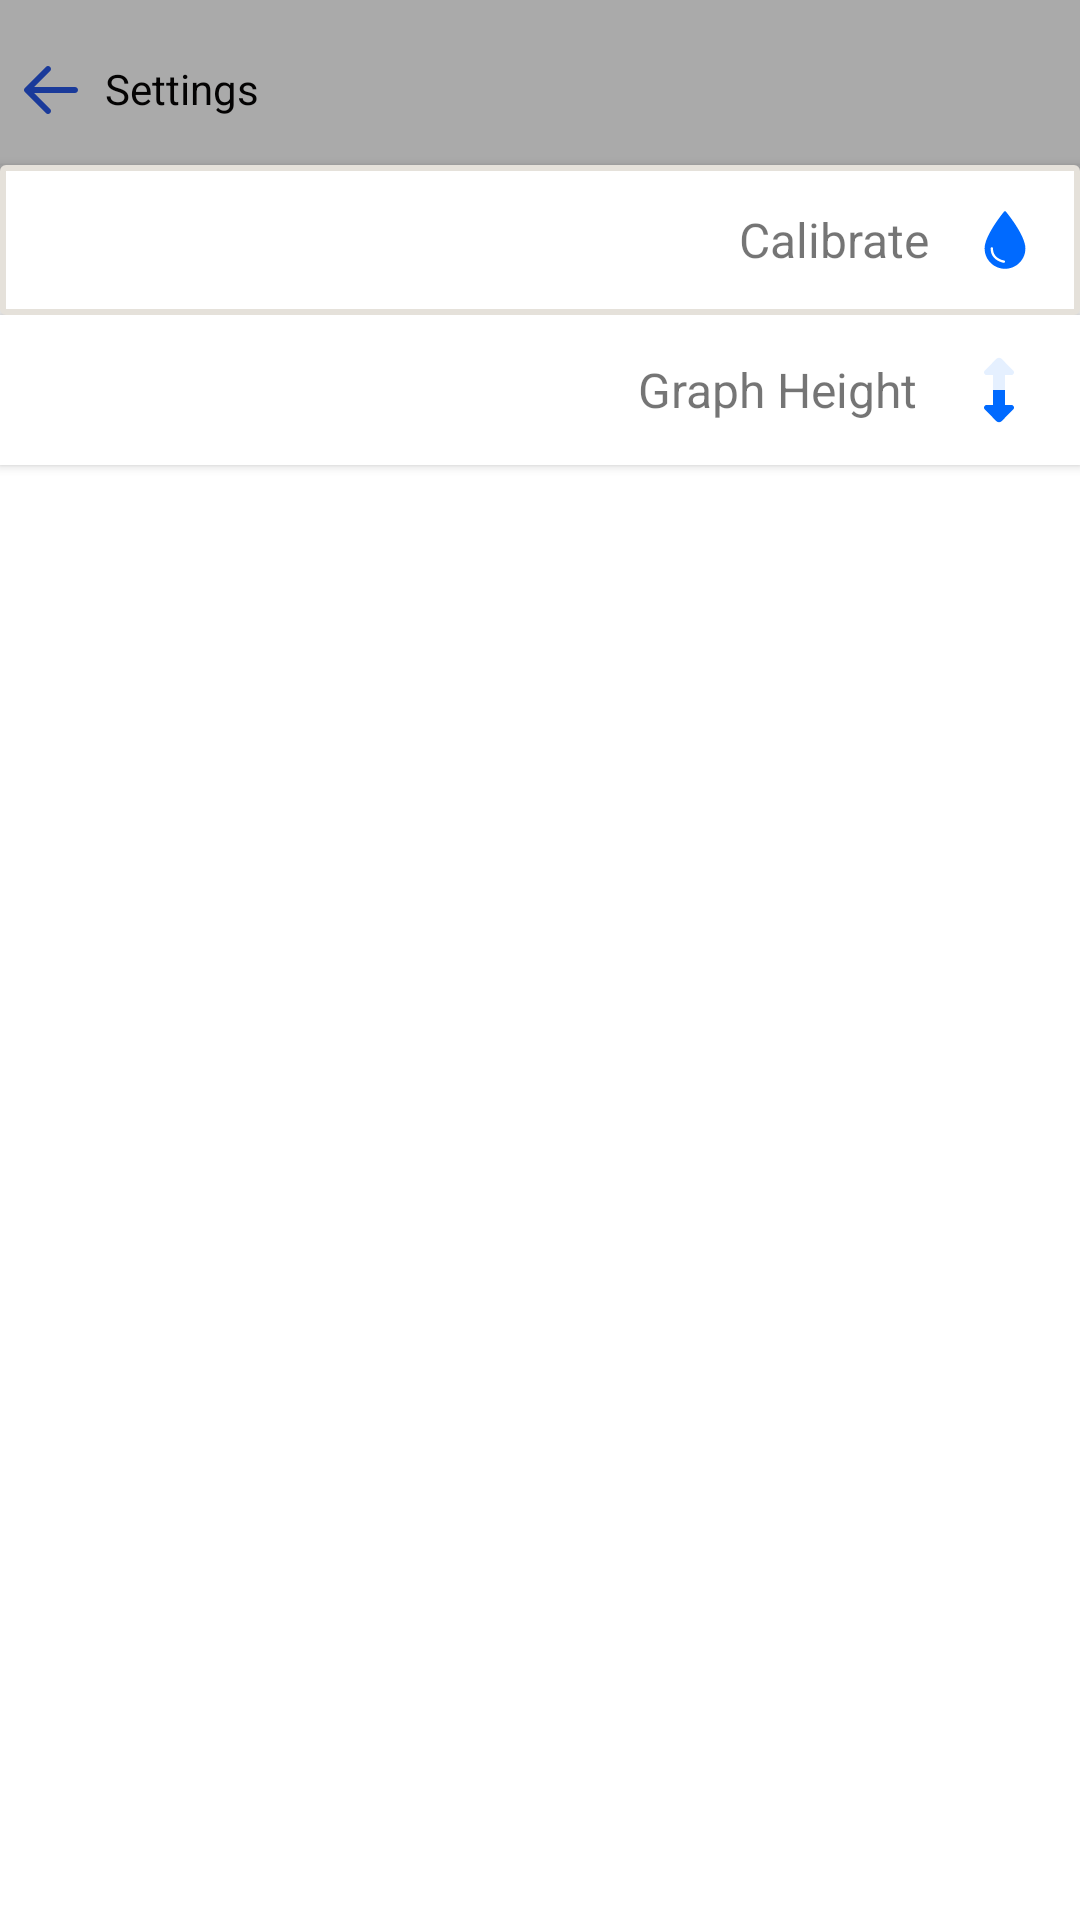

Icons on this 1080×1920 Android screen, each with the point to tap as (x,y):
drop of bloo: (1005,240)
resize vertical: (999,390)
